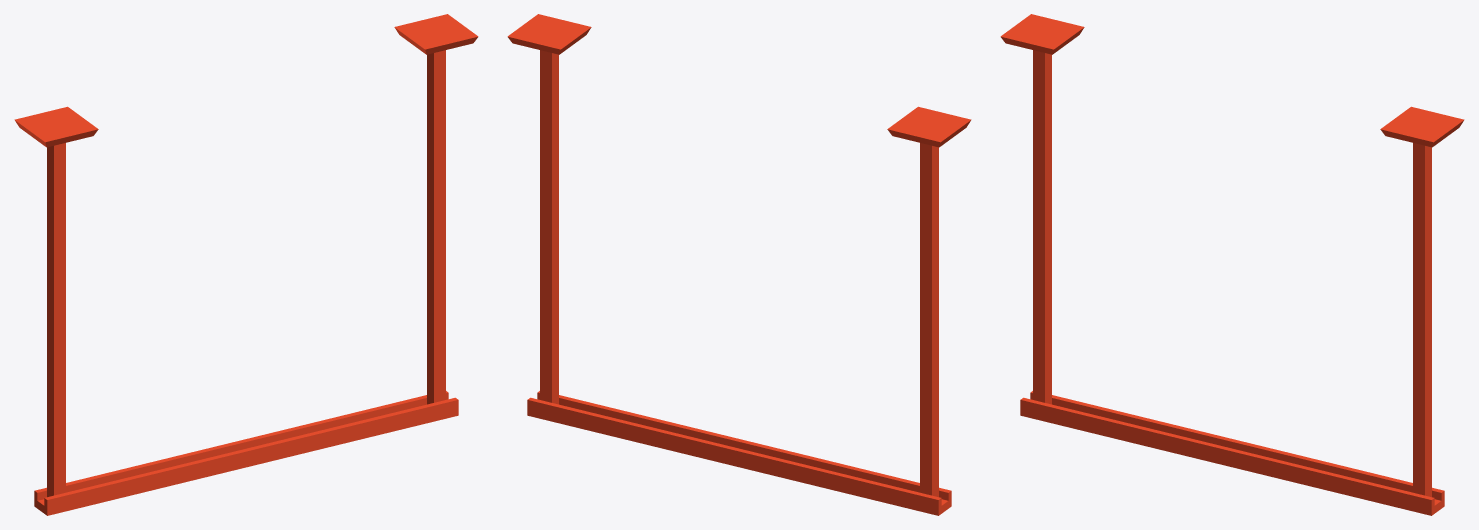
Rendered from SM_Vent_Holder_B_City.fbx.
3 views of the same model, side by side, from view 1: azimuth 30°, elevation 25°; view 2: azimuth 150°, elevation 25°; view 3: azimuth 330°, elevation 25° (orthographic).
Visible parts, largest first — view 1: SM_Vent_Holder_B_City; view 2: SM_Vent_Holder_B_City; view 3: SM_Vent_Holder_B_City.
Part boxes in pixels (<box>): SM_Vent_Holder_B_City: <box>14,14,478,515</box>; SM_Vent_Holder_B_City: <box>507,14,971,515</box>; SM_Vent_Holder_B_City: <box>1000,14,1464,515</box>.
Size of the model in its own units: 0.9299 by 0.7852 by 0.1147.
